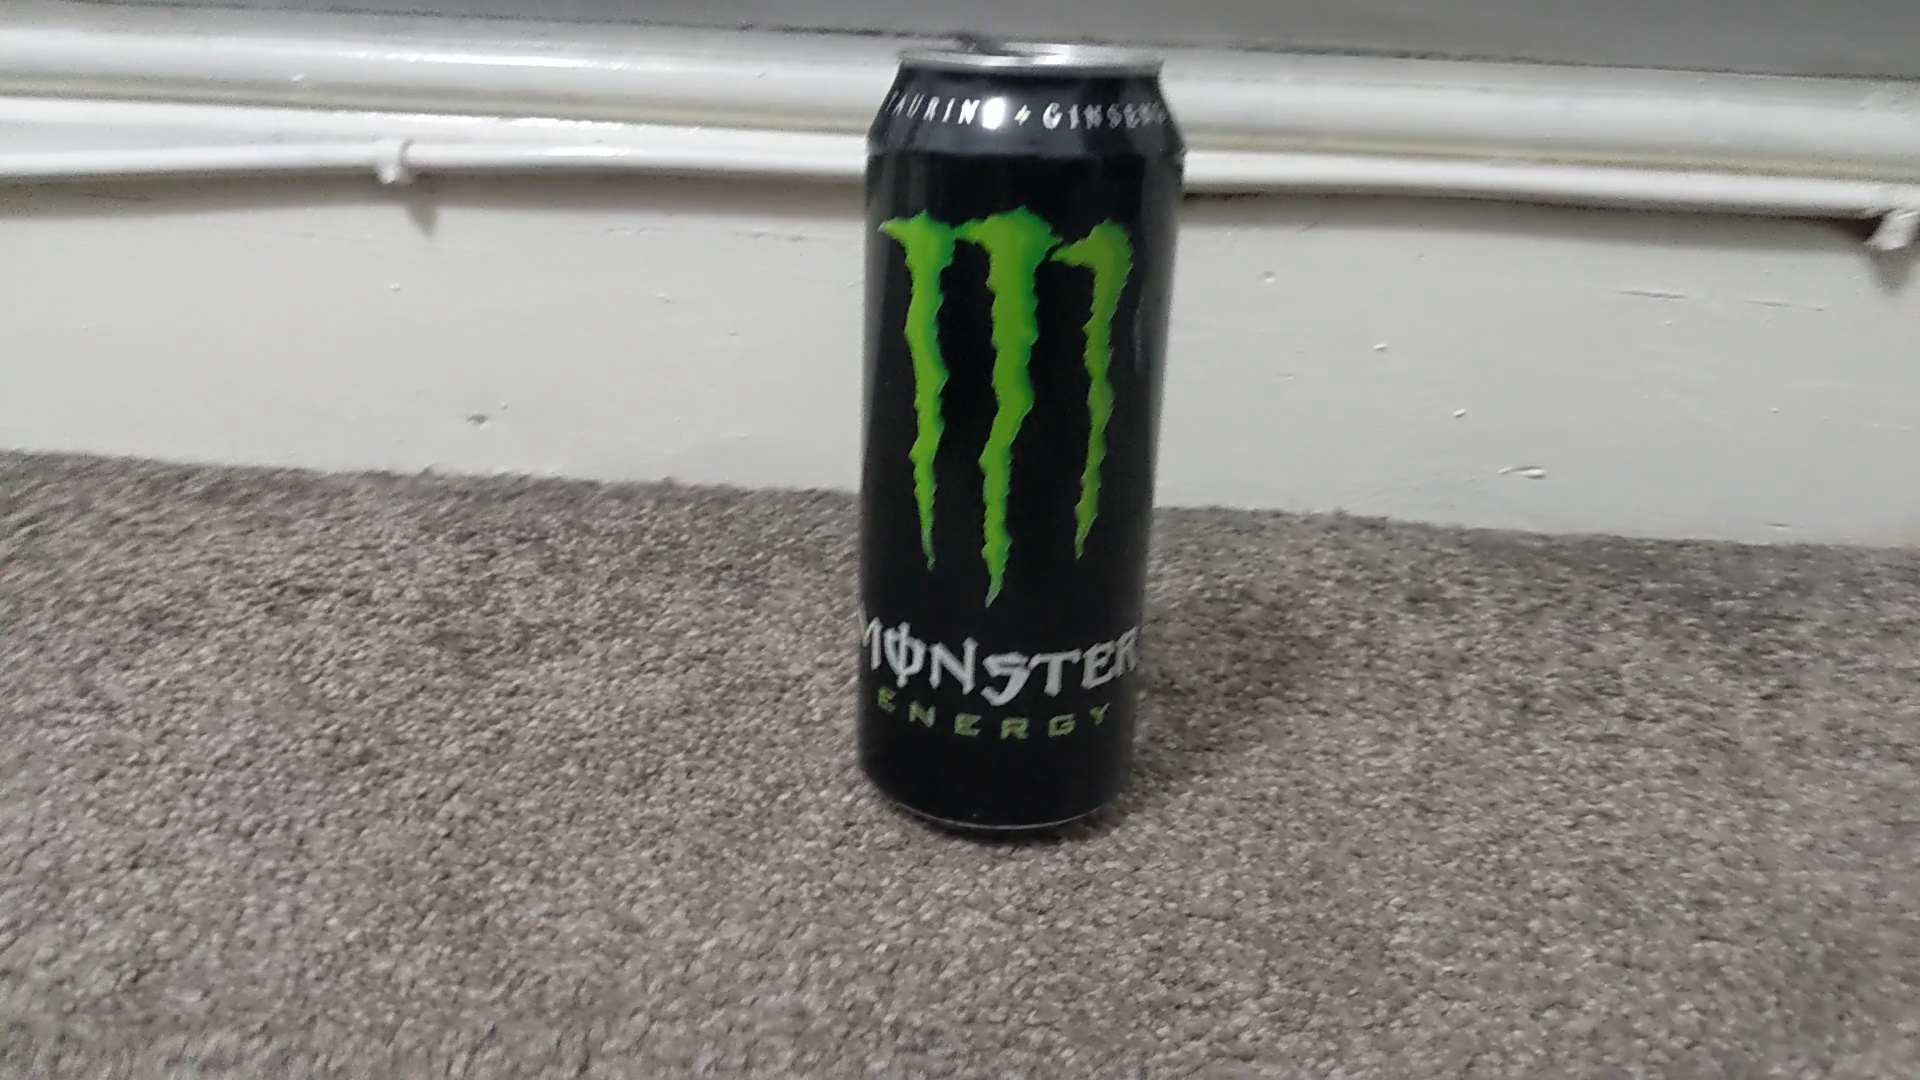monster-original: (855, 47, 1185, 839)
